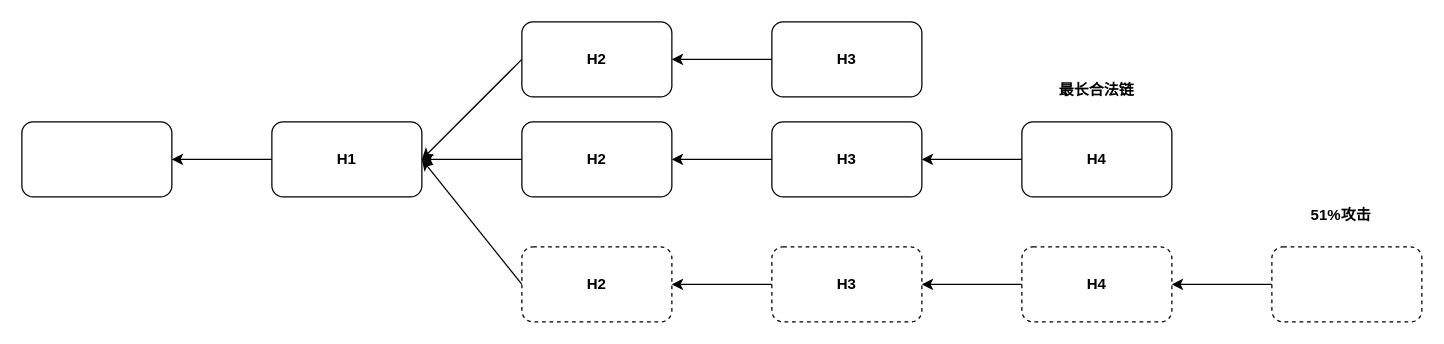
The diagram is 1444 pixels wide and 344 high, and some of its shapes have lost their labels. The shapes that lost their labels are listed below. From the top down, each one's box as (x1, y1, x2, y2) in pixels, then its label:
(21, 121, 172, 197): H0
(1271, 246, 1422, 322): H5
